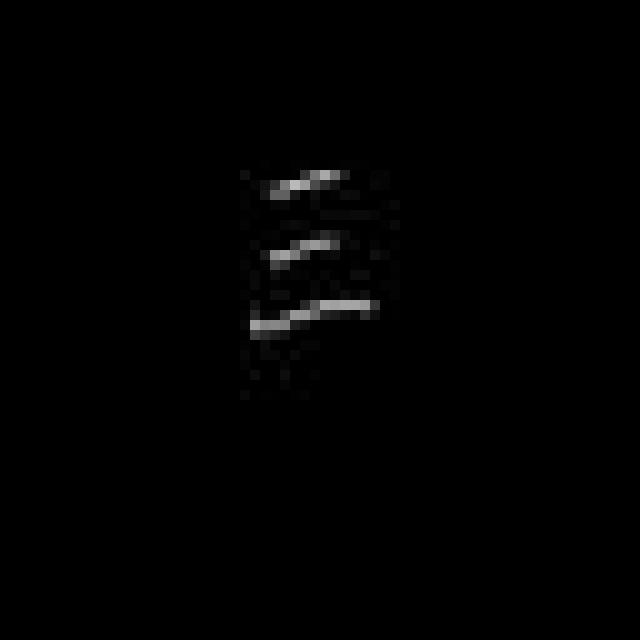3 -three-: (227, 153, 391, 345)
